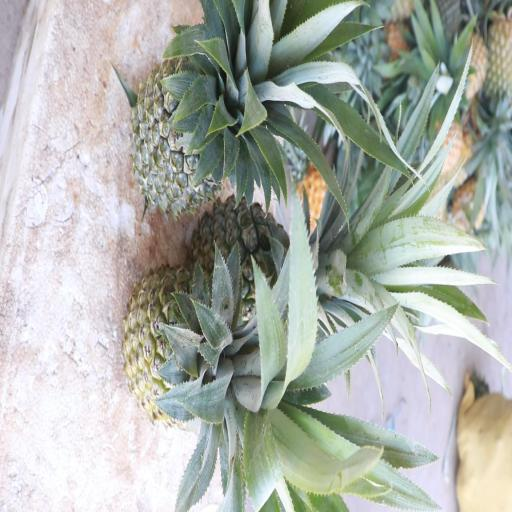------------------------------: (120, 259, 355, 436), (187, 192, 369, 333)
Pineapple - v8 v1: (484, 7, 512, 162)
